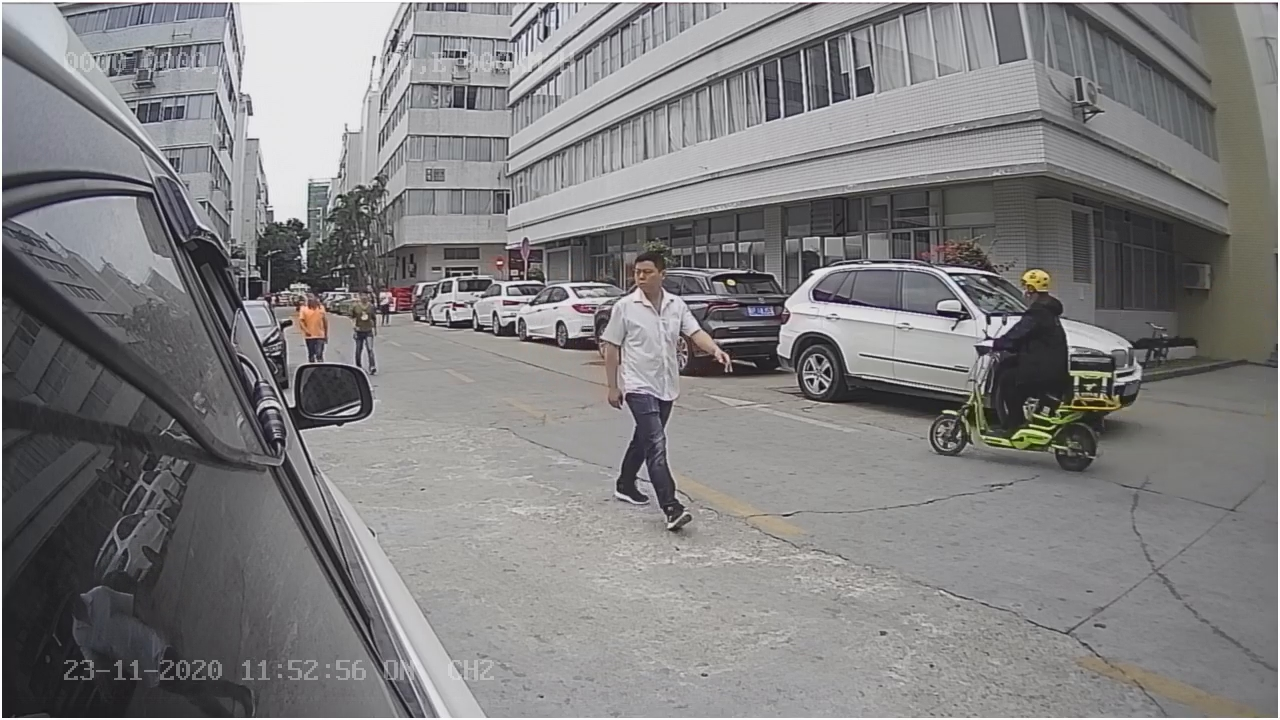person: (601, 249, 711, 530)
